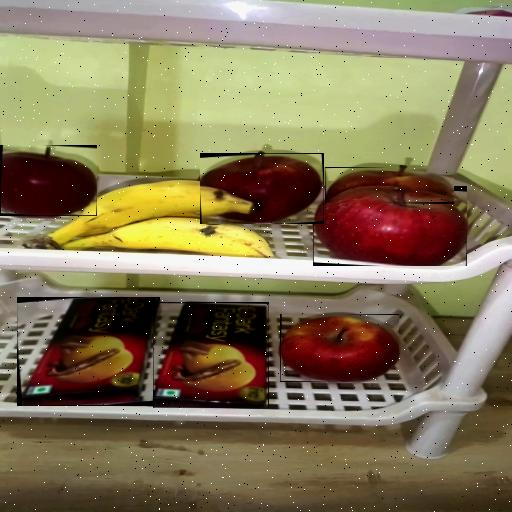Apple: (313, 186, 467, 266), (200, 153, 324, 224), (280, 314, 399, 382), (0, 145, 97, 216), (325, 167, 454, 203)
Choco Fills: (17, 297, 160, 406), (153, 302, 269, 408)
